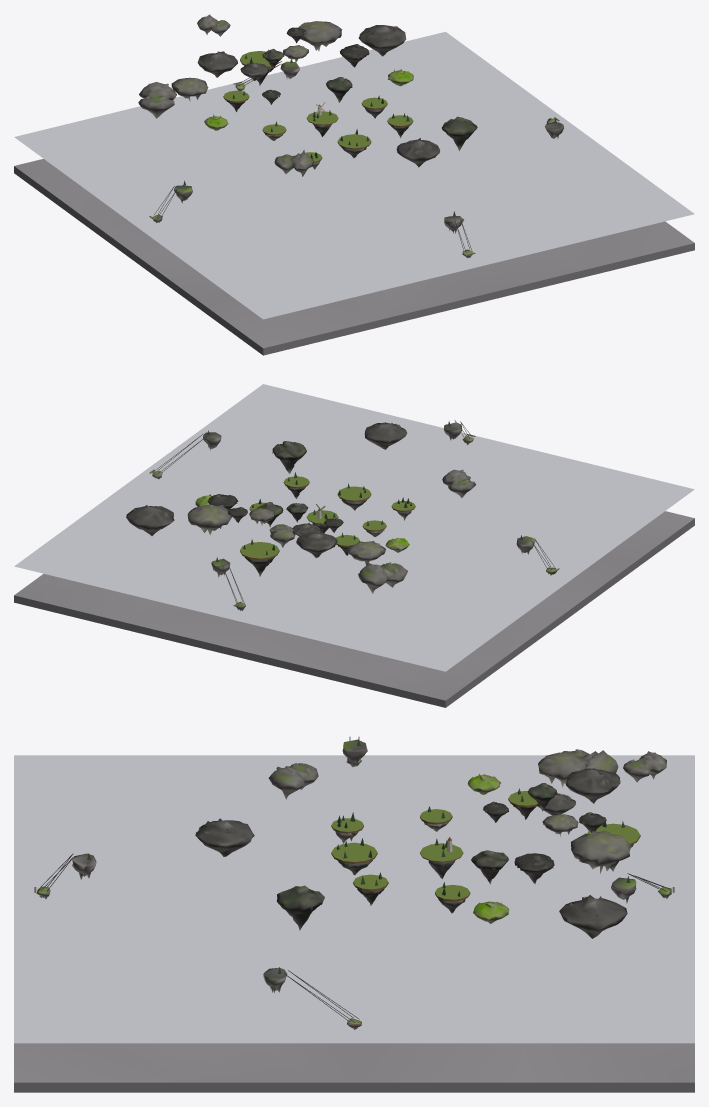
Rendered from far.glb.
3 views of the same model, one above another, from view 1: azimuth 30°, elevation 25°; view 2: azimuth 150°, elevation 25°; view 3: azimuth 270°, elevation 25° (orthographic). The views are drawn at different scales.
Visible parts, largest first — view 1: far-proxy; view 2: far-proxy; view 3: far-proxy.
Part boxes in pixels (bbox=[...]): far-proxy: bbox=[14, 14, 694, 355]; far-proxy: bbox=[14, 384, 694, 707]; far-proxy: bbox=[14, 737, 694, 1092].
Bounding box in the file's own units: 500 × 138 × 500.
